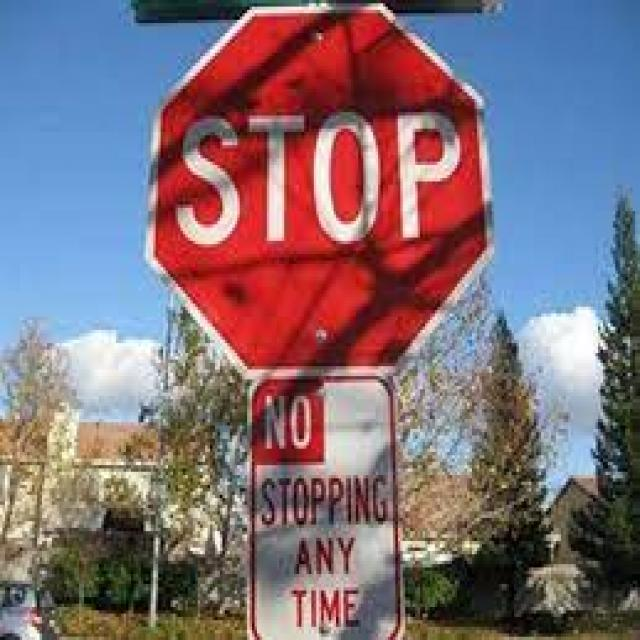stop-sign: (146, 17, 501, 310)
